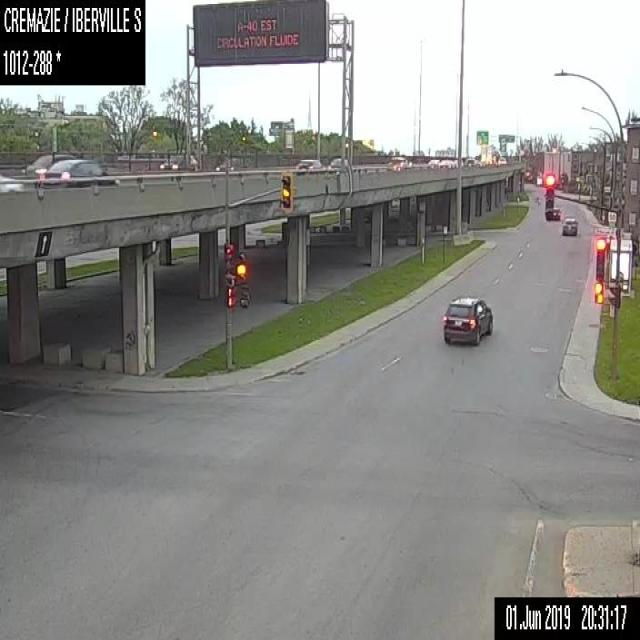vehicle: (442, 295, 494, 345), (39, 158, 119, 186), (22, 152, 76, 178), (160, 151, 198, 169), (0, 171, 23, 190), (295, 157, 327, 170), (480, 143, 497, 166), (386, 155, 412, 168), (561, 214, 577, 234), (328, 157, 348, 170), (213, 158, 234, 170), (439, 158, 456, 168), (426, 158, 439, 168), (465, 157, 476, 166), (553, 205, 559, 220), (453, 158, 463, 167), (496, 156, 506, 165), (475, 158, 484, 167)
